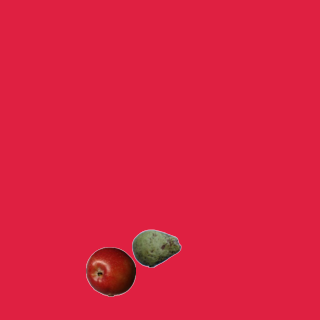Apple Braeburn: (85, 246, 135, 296)
Pear Stone: (131, 223, 181, 273)
